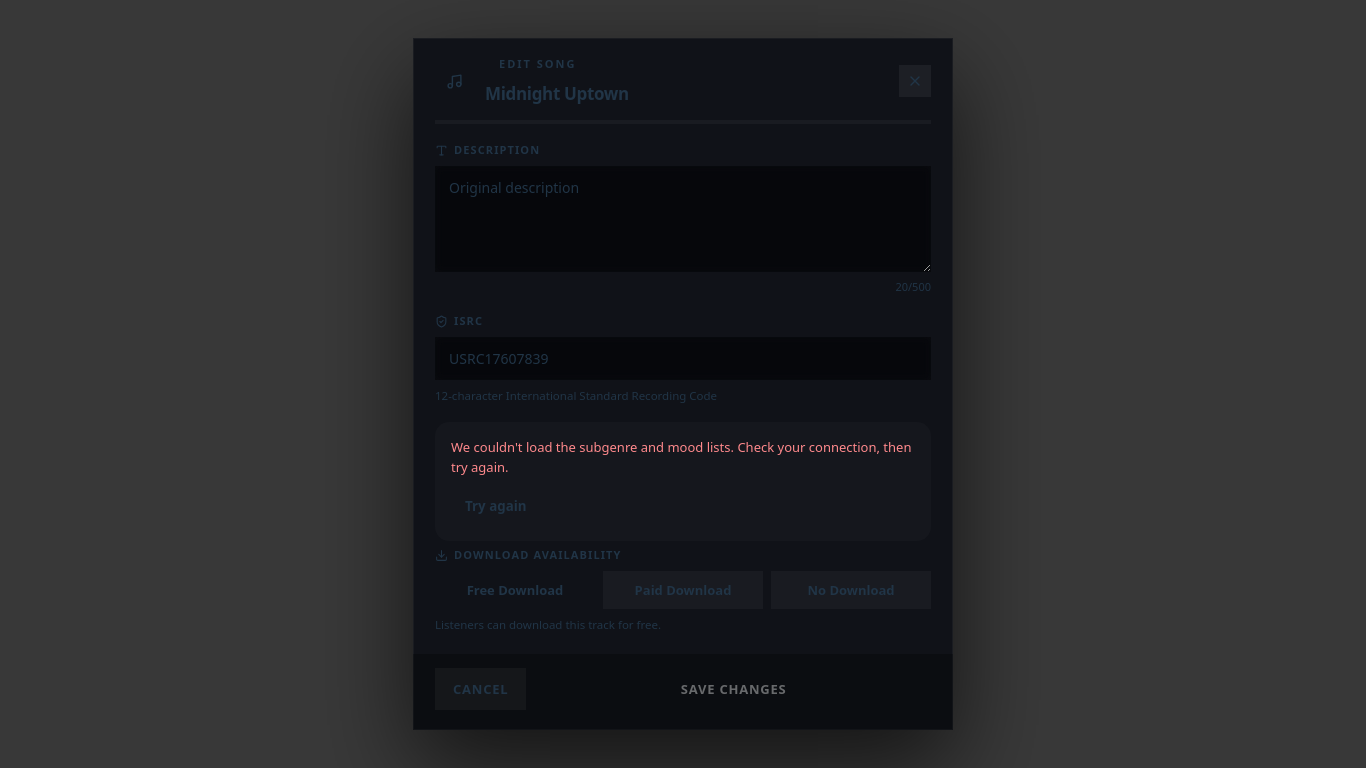
it: EditSongWizard — download policy › switching to Paid reveals the price input
The image size is (1366, 768).
(page scrolled)
Check: the field with placeholder "0.94" is not shown
Click the button "Paid Download" at (683, 590), box [603,571,763,609]
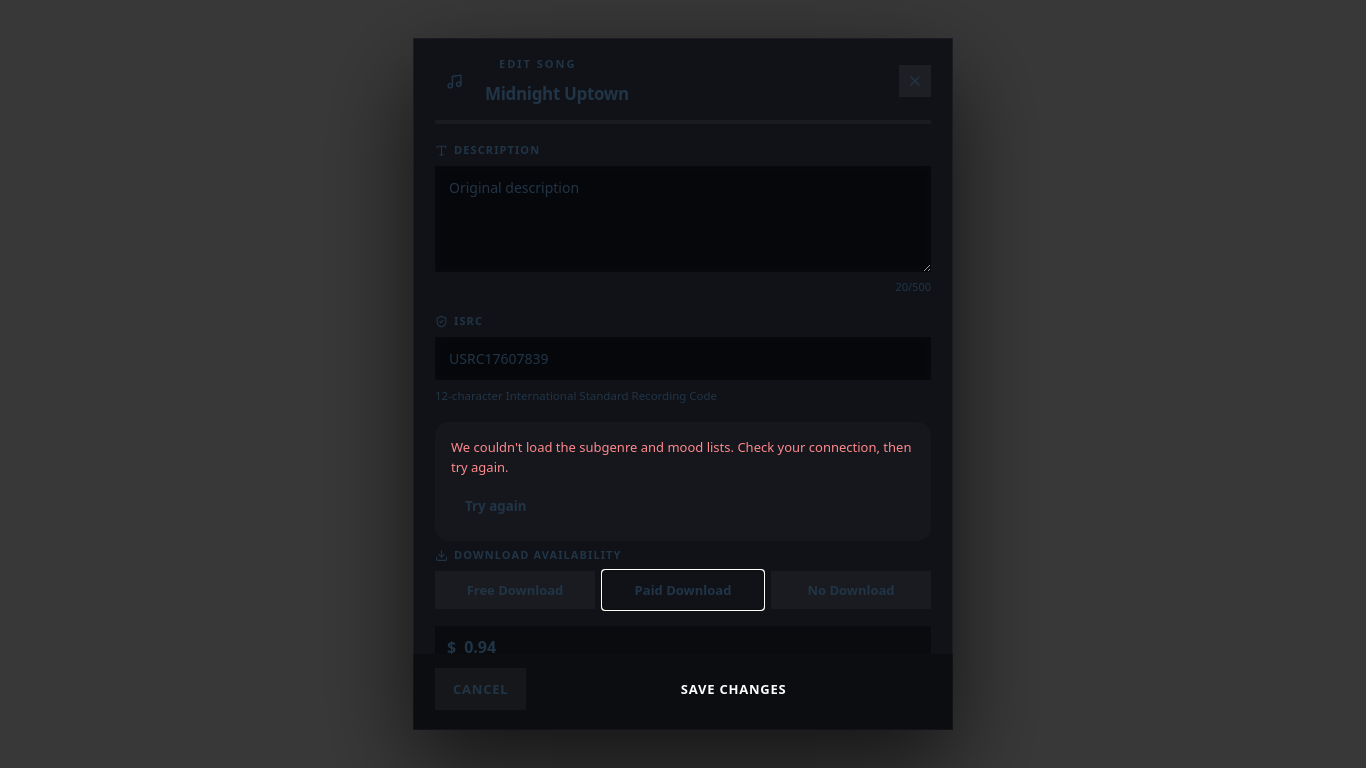
Check: the number field with placeholder "0.94" is shown, box [456,626,919,654]
